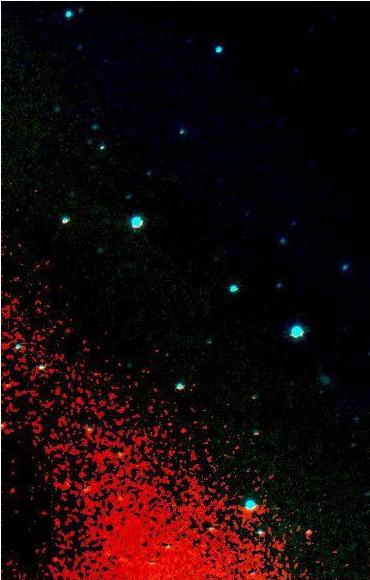star: (291, 517, 321, 547)
